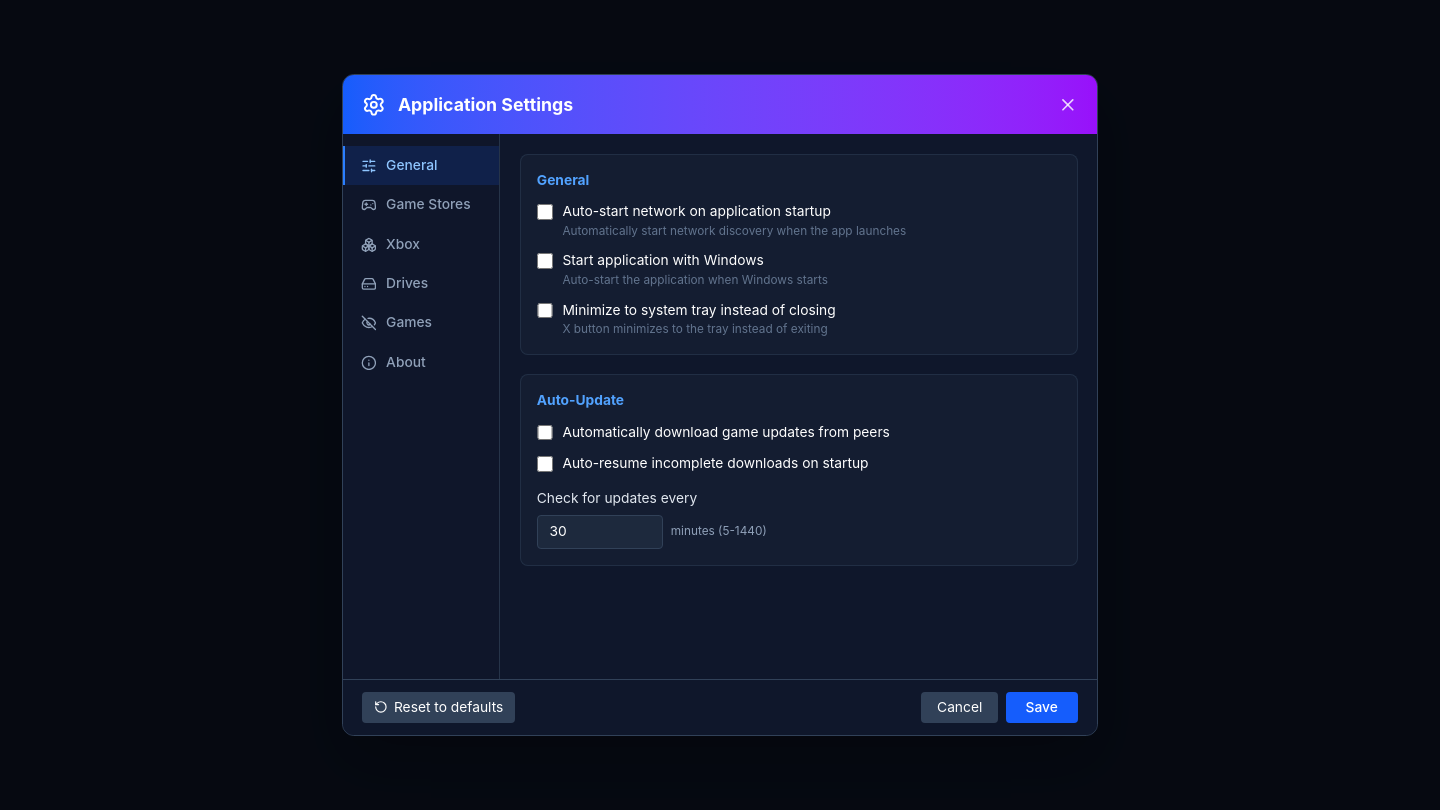
Test: SettingsModal › Epic browse result populates the install root field
This screenshot has width=1440, height=810.
Click the button "Game Stores" at (421, 205), box [343, 185, 499, 225]
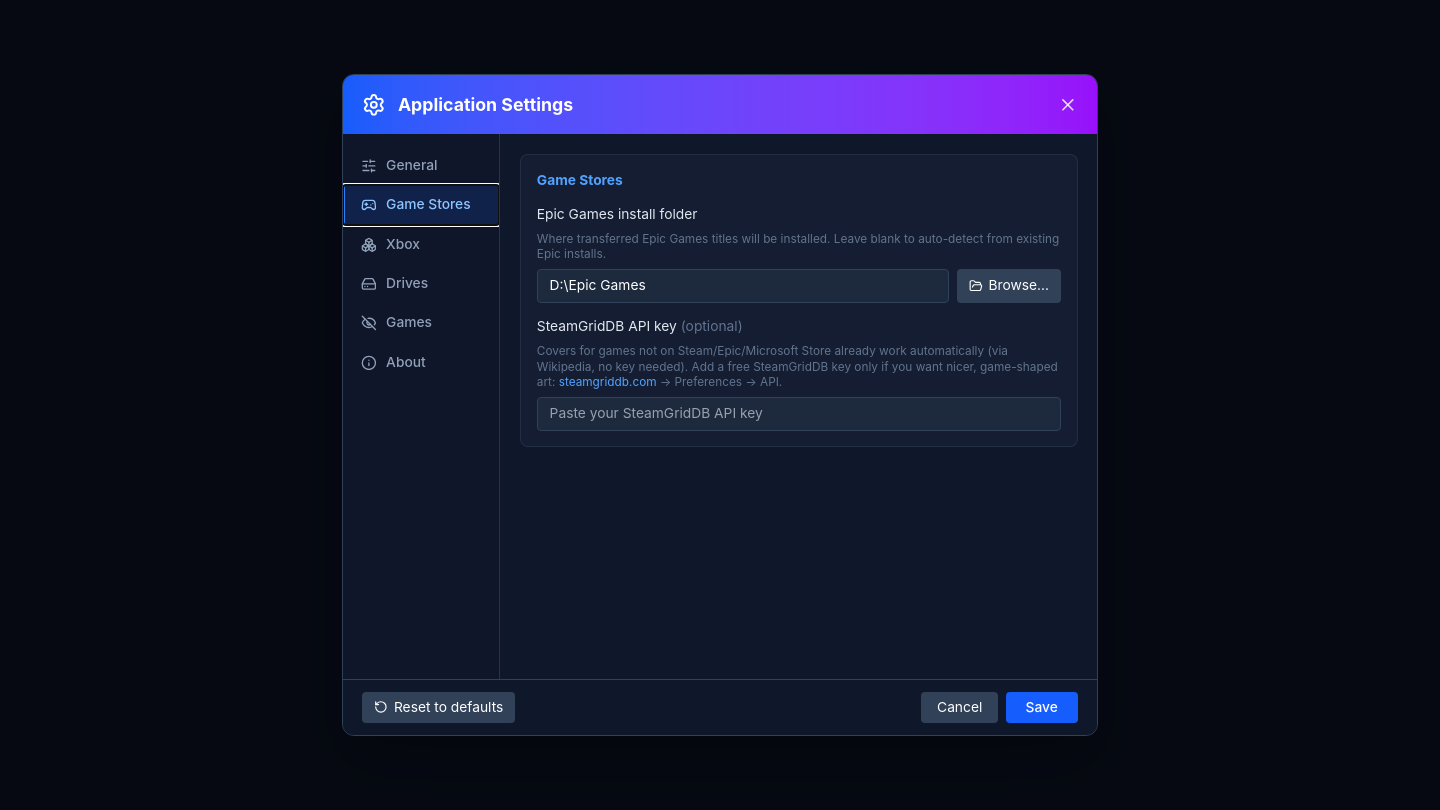
Expected: the field showing "D:\\Epic Games" holds "D:\\Epic Games", [537, 269, 949, 303]
